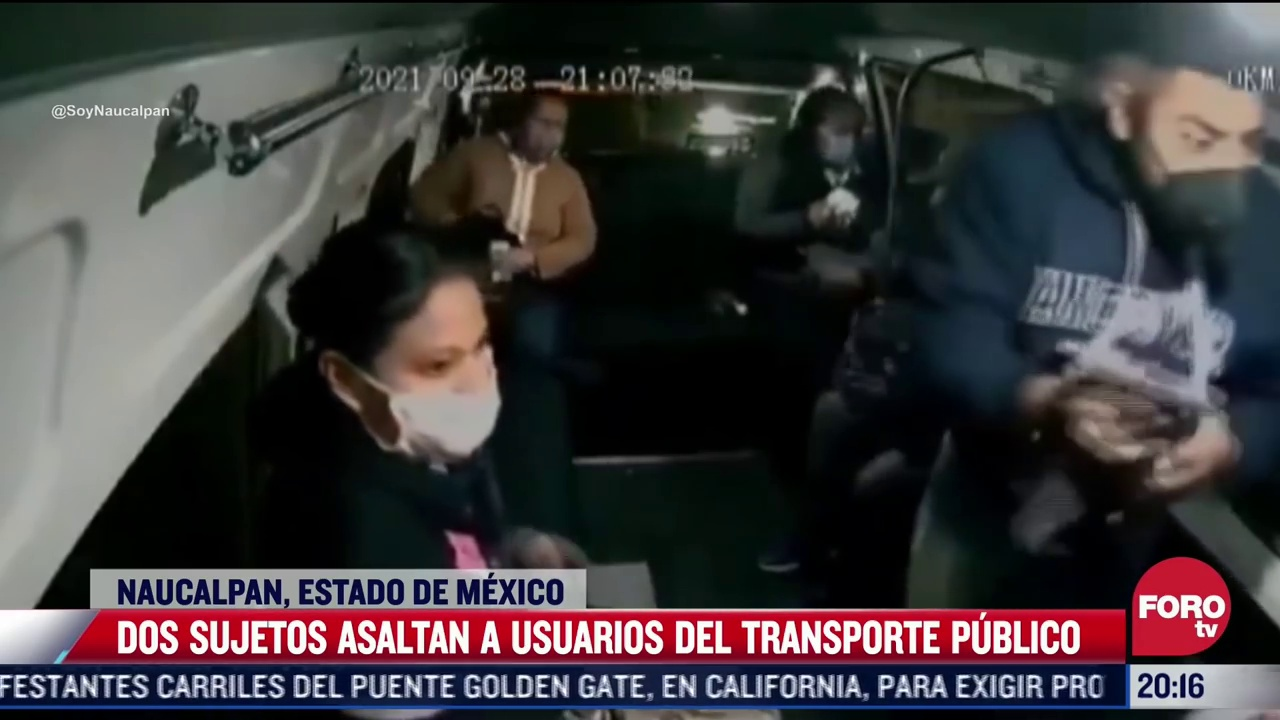pistol: (1050, 339, 1229, 428)
